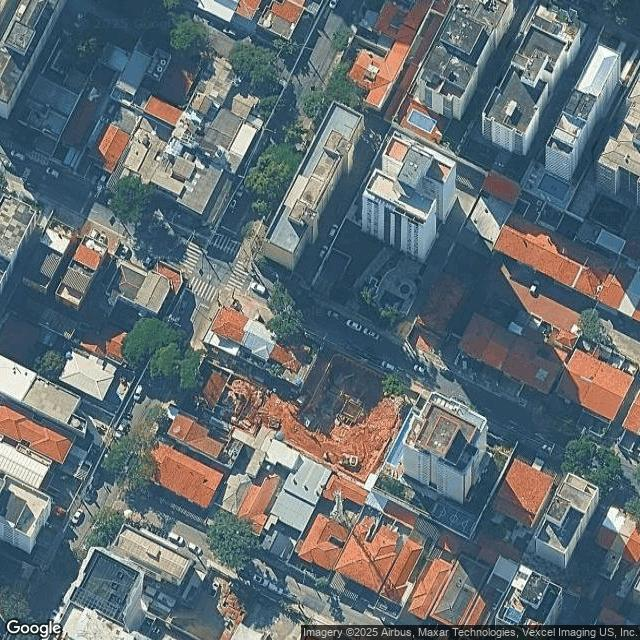pool: (401, 448, 403, 476)
